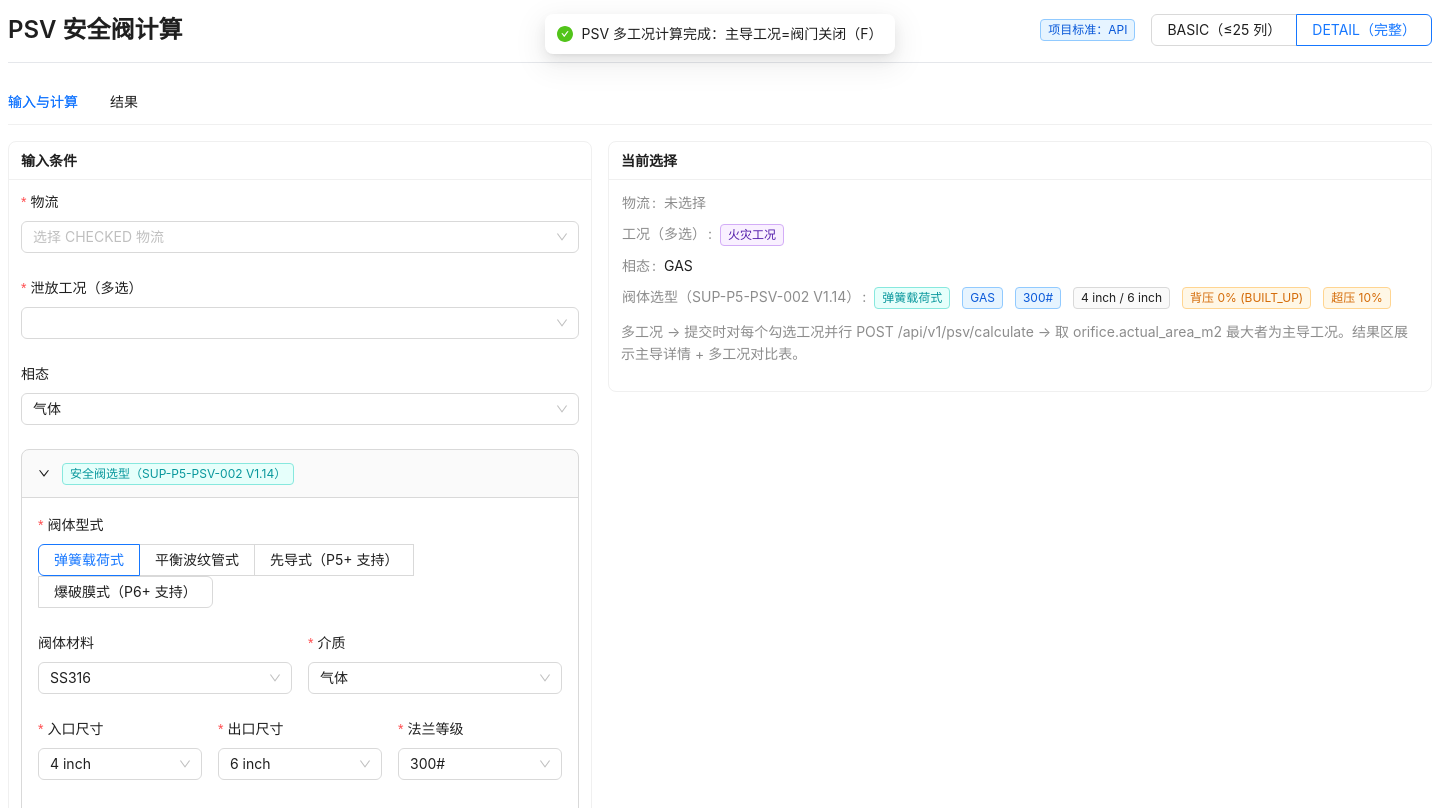
it: PsvComputePage — 安全阀选型 SUP-P5-PSV-002 §5.1 › SUP-P5-PSV-002 §5.2：阀体型式 = PILOT_OPERATED → 提交按钮禁用 + 警告 Alert
The image size is (1440, 808).
# 点击 PILOT_OPERATED Radio
Click the radio button showing "PILOT_OPERATED": coordinates (334, 560) x1=254 y1=544 x2=414 y2=576
(page scrolled)
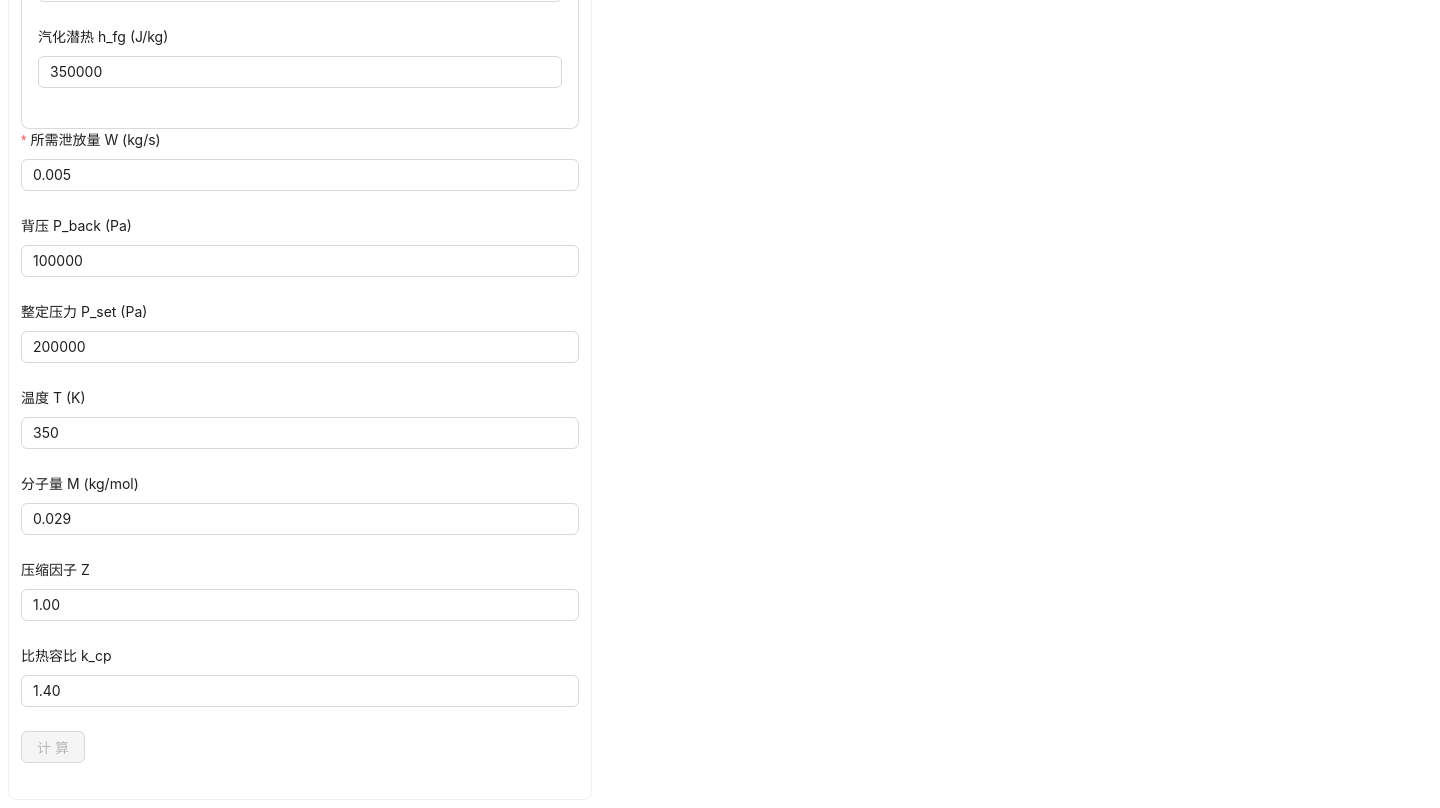
Now the button with test id "psv-calculate" is disabled, box x1=21 y1=731 x2=85 y2=763
